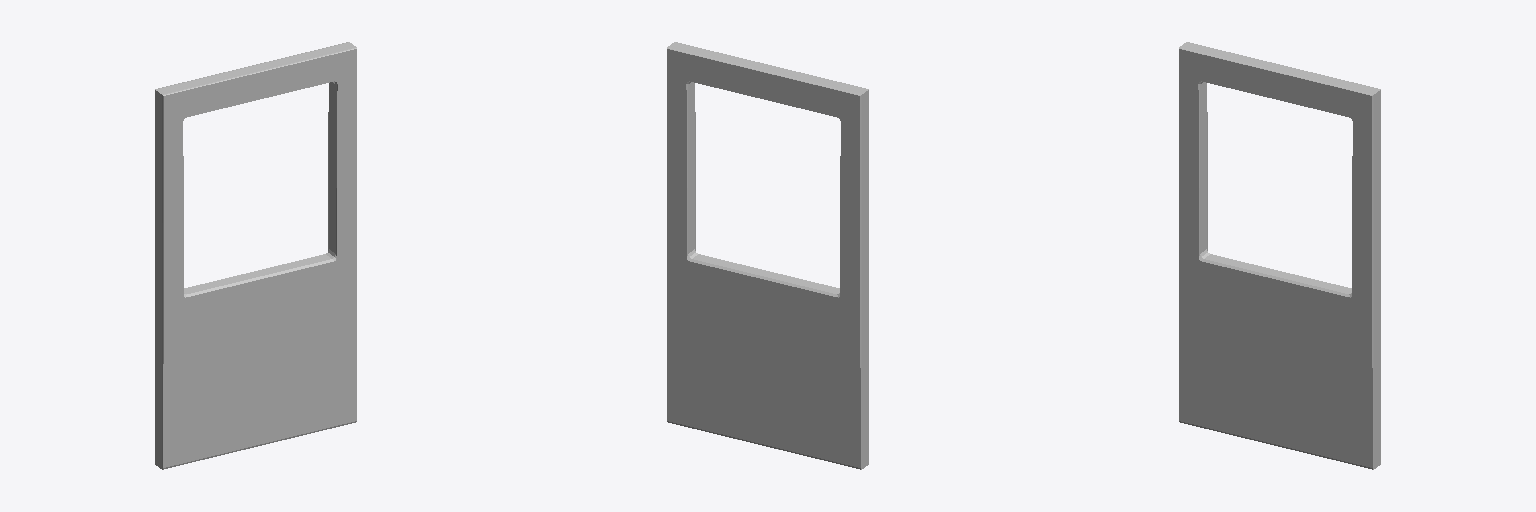
File: door1.obj
The picture shows the model from 3 angles: view 1: azimuth 30°, elevation 25°; view 2: azimuth 150°, elevation 25°; view 3: azimuth 330°, elevation 25°; orthographic projection.
Parts seen in each view (by area): view 1: door1_Material.005; view 2: door1_Material.005; view 3: door1_Material.005.
Boxes of the visible parts, box(x1,y1,x2,y2) form: door1_Material.005: box(155, 42, 356, 469); door1_Material.005: box(667, 42, 868, 469); door1_Material.005: box(1179, 42, 1380, 469).
Bounding box in the file's own units: 1.16 × 2.14 × 0.0926.